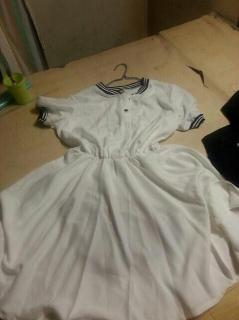short sleeve dress: (0, 77, 239, 319)
